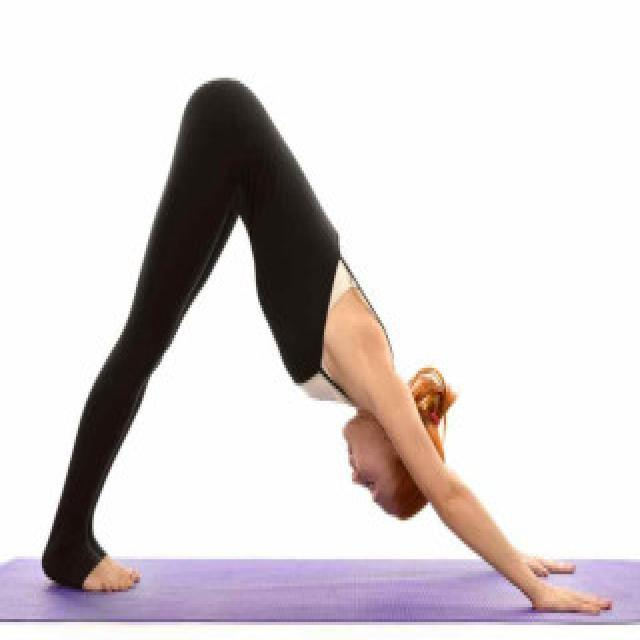yoga-pose downward: (38, 70, 578, 610)
